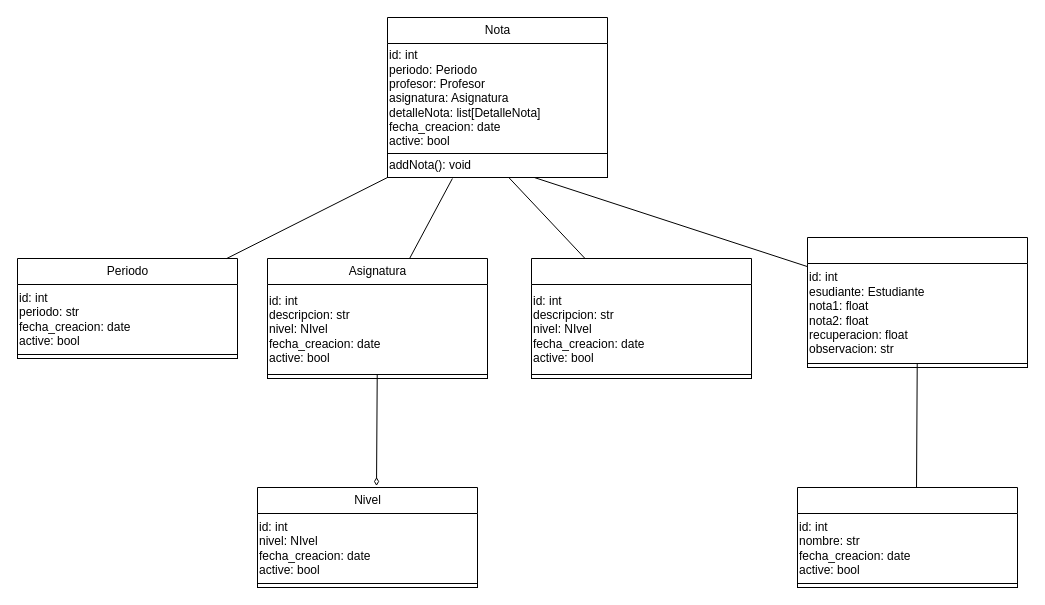
Some shapes in this 1045 by 605 pixel diagram are drawn without their labels. The shapes that lost their labels are listed below. From the top down, each one's box as (x1, y1, x2, y2) in pixels, then its label:
(530, 258, 752, 378): Profesor
(806, 236, 1028, 368): DetalleNota
(796, 486, 1018, 588): Estudiante
